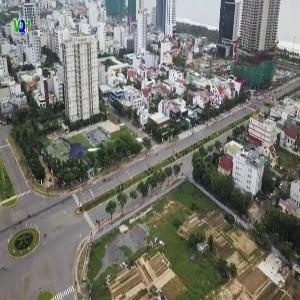drone: (53, 123, 111, 181)
